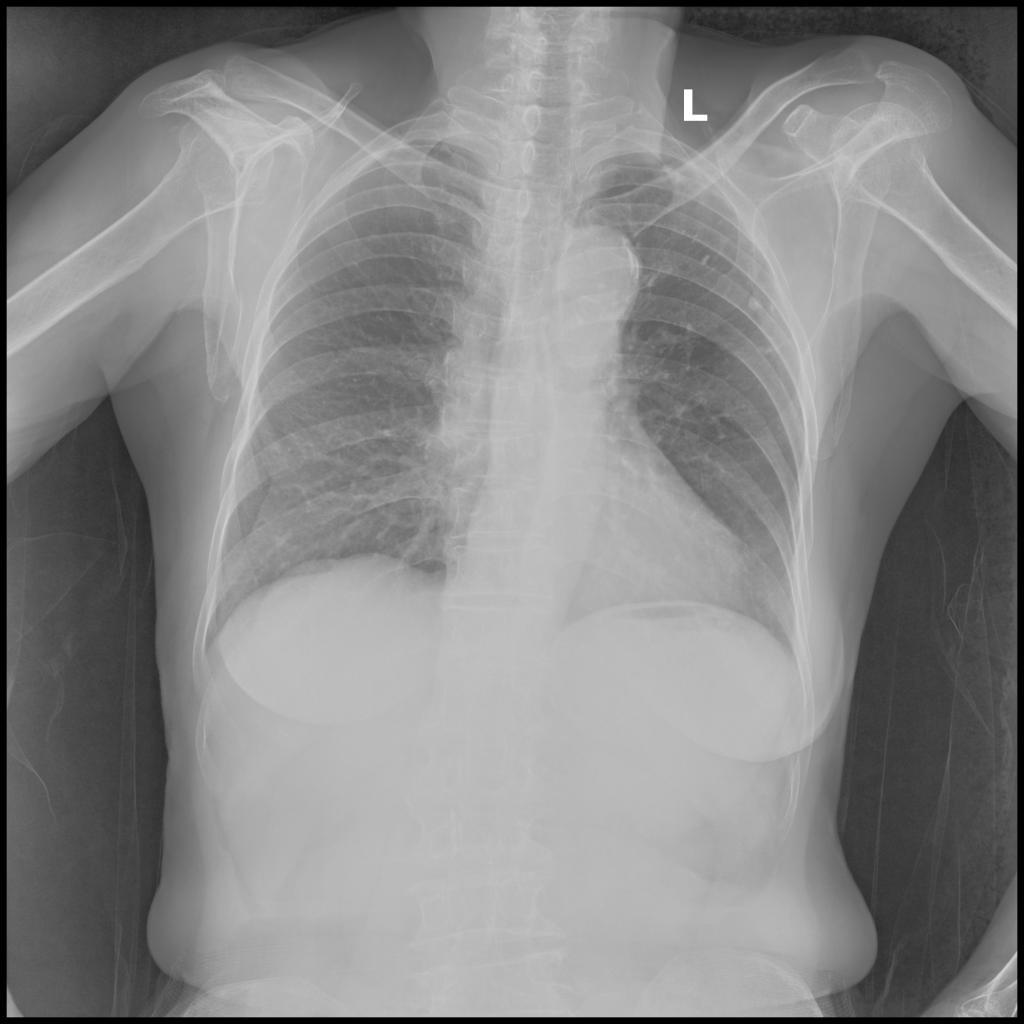Nodule: (748, 294, 762, 312), (700, 253, 713, 267)
